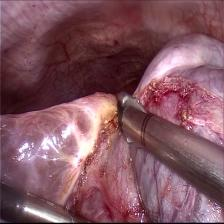Clipper: (112, 88, 150, 148)
